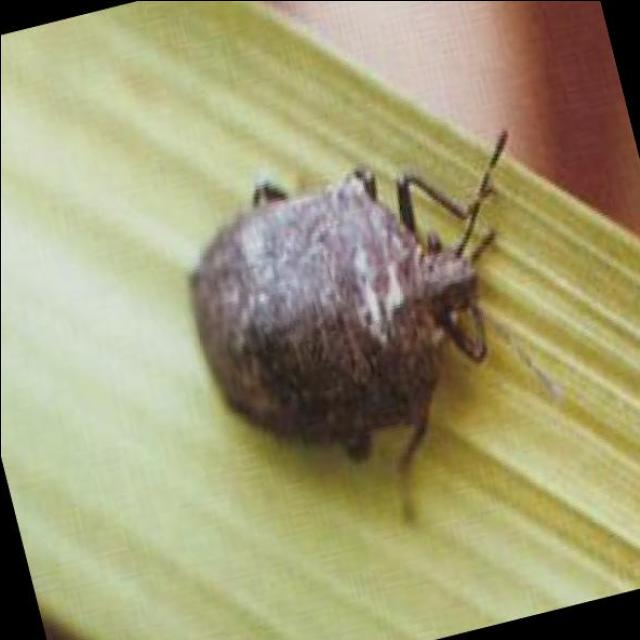ricebug: (190, 166, 493, 476)
